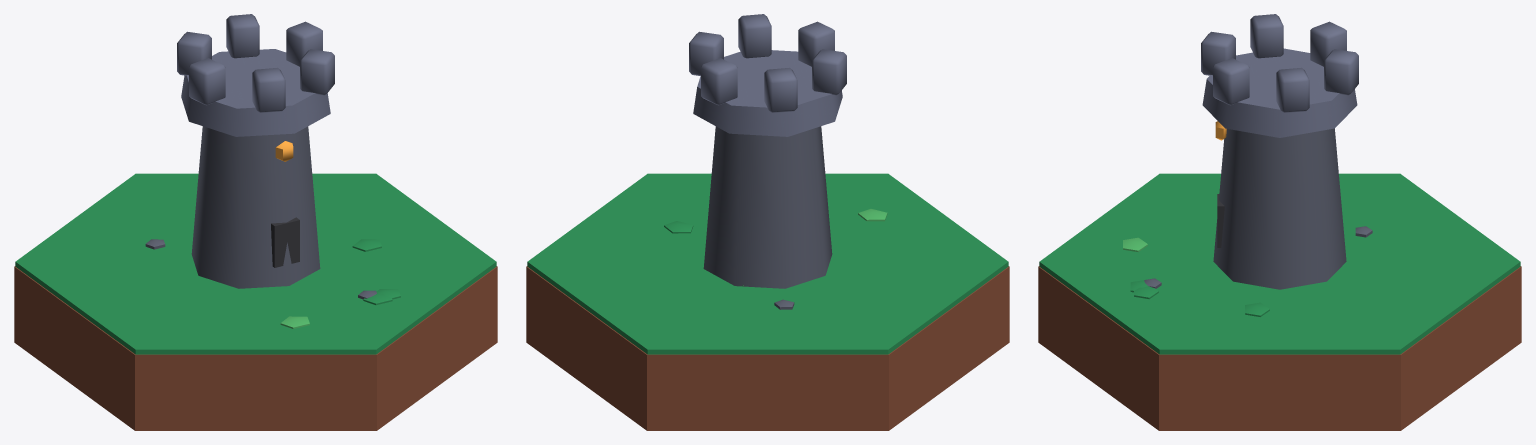
File: building-tower.glb
3 views of the same model, side by side, from view 1: azimuth 30°, elevation 25°; view 2: azimuth 150°, elevation 25°; view 3: azimuth 270°, elevation 25° (orthographic).
Parts seen in each view (by area): view 1: building_tower; view 2: building_tower; view 3: building_tower.
Boxes of the visible parts, x1,y1,x2,y2 form: building_tower: (14,14,497,430); building_tower: (526,14,1009,430); building_tower: (1038,14,1521,430).
Size of the model in its own units: 1 by 0.78 by 1.15.
1 material, 1 textured.
